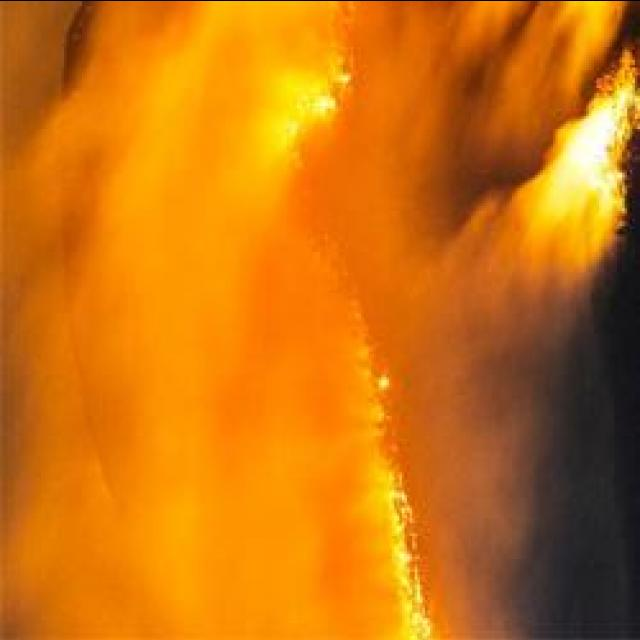fire: (397, 588, 434, 640), (386, 478, 414, 534), (573, 118, 607, 164)
smoke: (23, 101, 191, 209), (7, 442, 112, 606), (488, 181, 596, 293), (302, 470, 361, 626), (238, 251, 310, 366), (511, 0, 617, 60), (428, 0, 510, 44)
